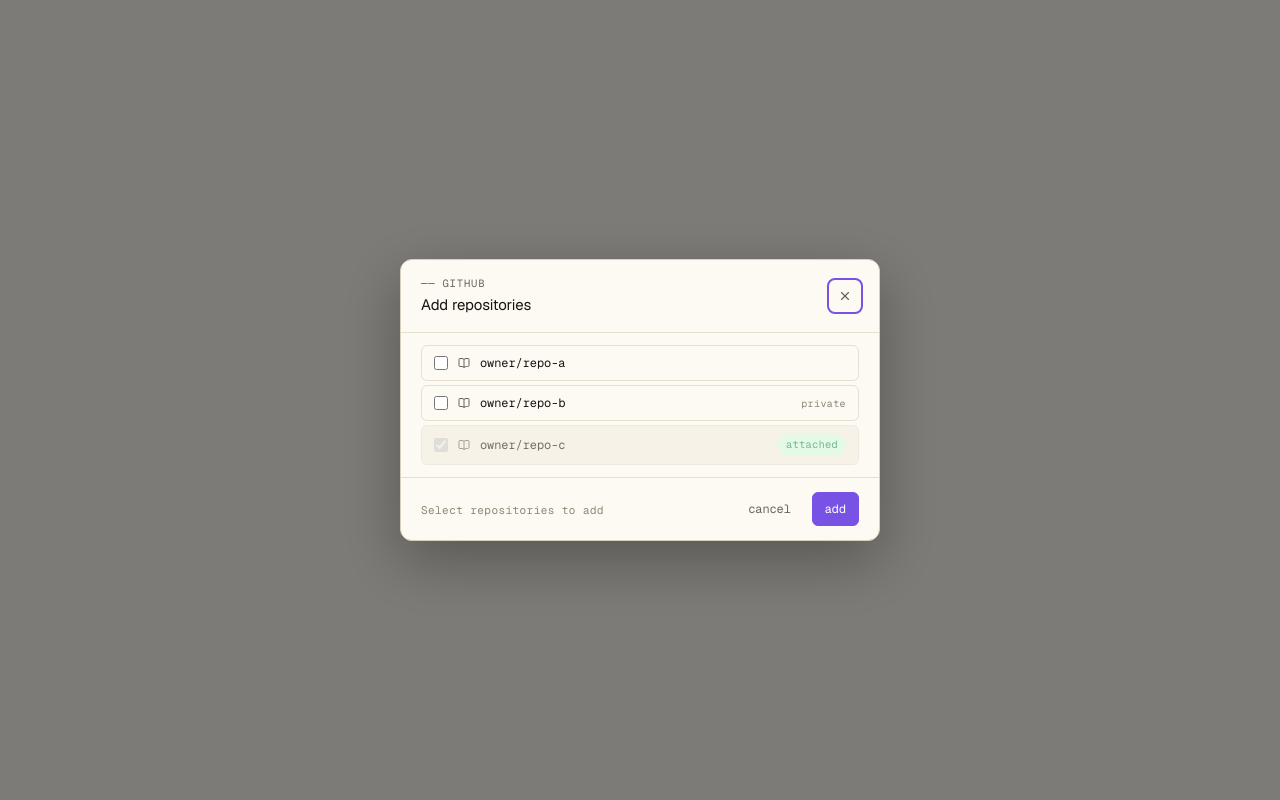
Test case: DiscoverReposModal › shows error banner when attach fails
Click the checkbox named "Select owner/repo-a".
click(441, 363)  # box [434,356,448,370]
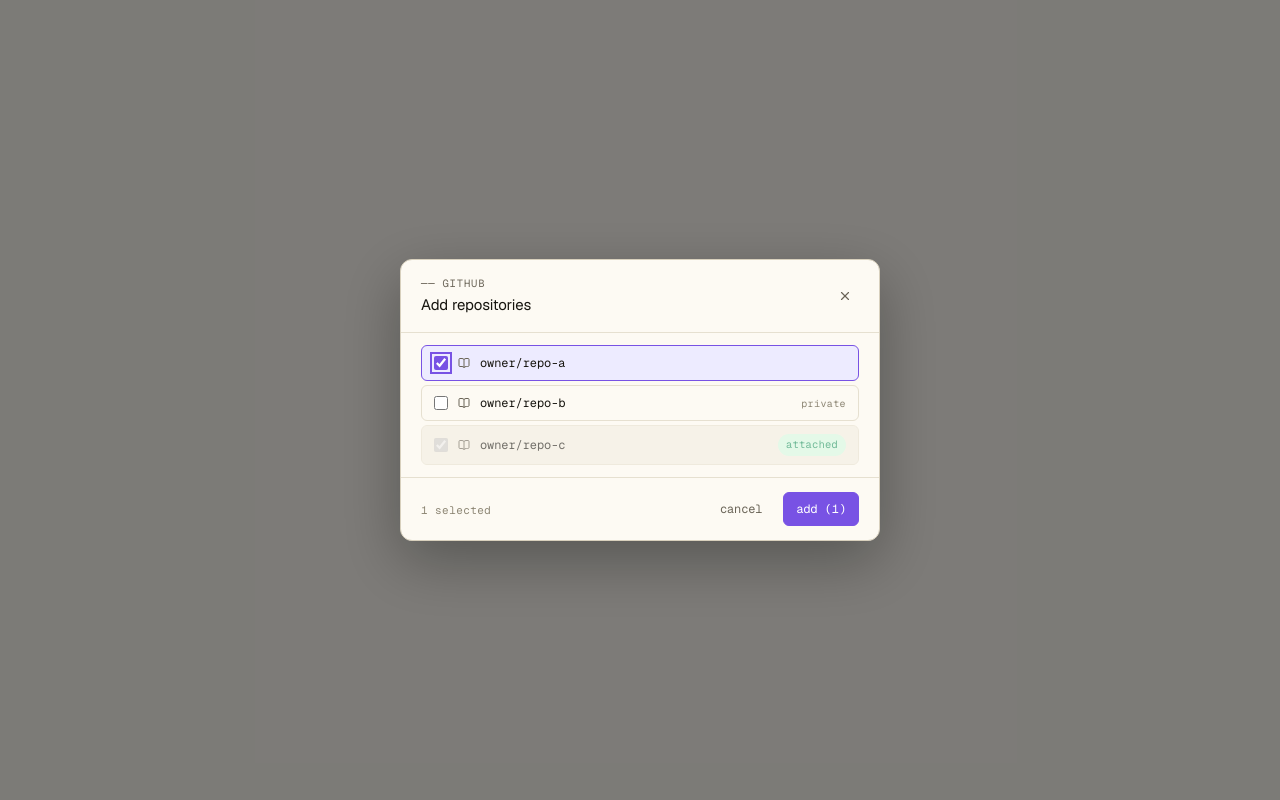
Click the button "add (1)".
click(821, 509)  # box [783,492,859,526]
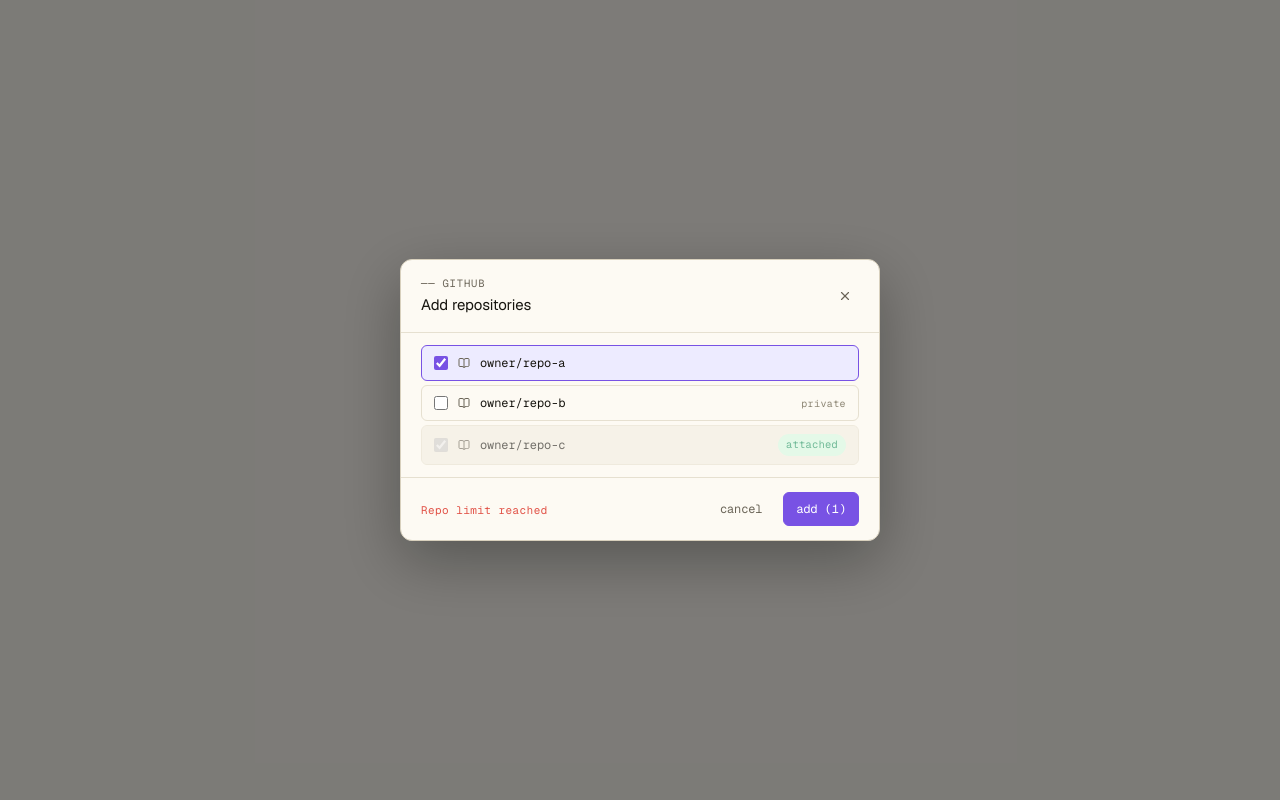
Check: the text "Repo limit reached" is shown, box [421,503,548,517]
